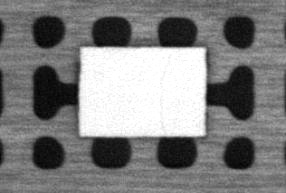DIE_CRACK: (155, 56, 173, 135)
